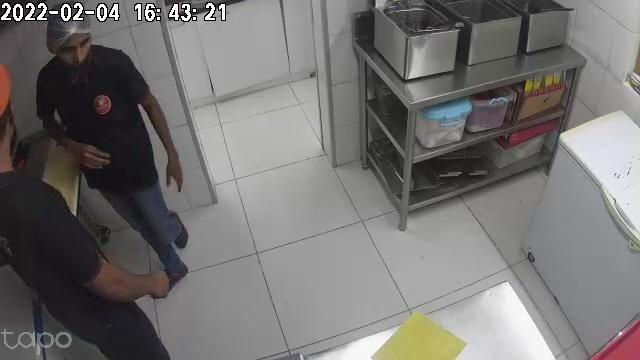no_gloves: (163, 141, 184, 191)
